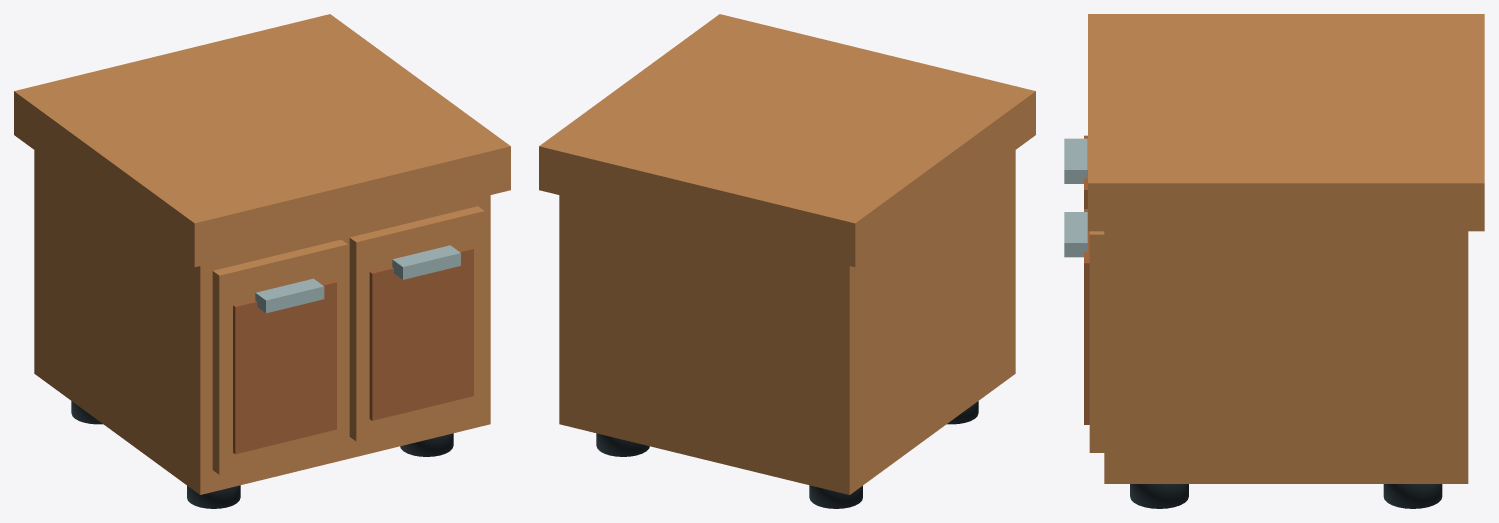
3 renders of one model, left to right at view 1: azimuth 30°, elevation 25°; view 2: azimuth 150°, elevation 25°; view 3: azimuth 270°, elevation 25°, orthographic. The views are drawn at different scales.
Parts seen in each view (by area): view 1: Work surface.009, Powder coated carcase.009, Recessed face.019, Recessed face.018, Inset cabinet door.019, Inset cabinet door.018, Brushed pull.018, Brushed pull.019, Recessed leveling foot.036, Recessed leveling foot.038; view 2: Powder coated carcase.009, Work surface.009, Recessed leveling foot.037, Recessed leveling foot.039; view 3: Powder coated carcase.009, Work surface.009, Inset cabinet door.019, Recessed leveling foot.039, Recessed leveling foot.038, Recessed face.019, Brushed pull.018, Brushed pull.019.
Boxes of the visible parts, box(x1,y1,x2,y2) form: Work surface.009: box(14, 14, 510, 267); Powder coated carcase.009: box(34, 150, 490, 494); Recessed face.019: box(369, 247, 473, 420); Recessed face.018: box(233, 280, 336, 454); Inset cabinet door.019: box(349, 206, 484, 441); Inset cabinet door.018: box(212, 239, 347, 474); Brushed pull.018: box(255, 278, 324, 313); Brushed pull.019: box(392, 245, 460, 279); Recessed leveling foot.036: box(187, 485, 240, 508); Recessed leveling foot.038: box(400, 433, 453, 456); Powder coated carcase.009: box(559, 150, 1015, 494); Work surface.009: box(539, 14, 1035, 267); Recessed leveling foot.037: box(809, 485, 862, 508); Recessed leveling foot.039: box(596, 433, 649, 456); Powder coated carcase.009: box(1104, 231, 1468, 483); Work surface.009: box(1088, 14, 1484, 231); Inset cabinet door.019: box(1089, 231, 1104, 452); Recessed leveling foot.039: box(1383, 484, 1442, 508); Recessed leveling foot.038: box(1130, 484, 1188, 508); Recessed face.019: box(1084, 209, 1089, 424); Brushed pull.018: box(1064, 138, 1087, 183); Brushed pull.019: box(1064, 212, 1087, 257).
Bounding box in the file's own units: 0.98 × 0.92 × 1.03.
